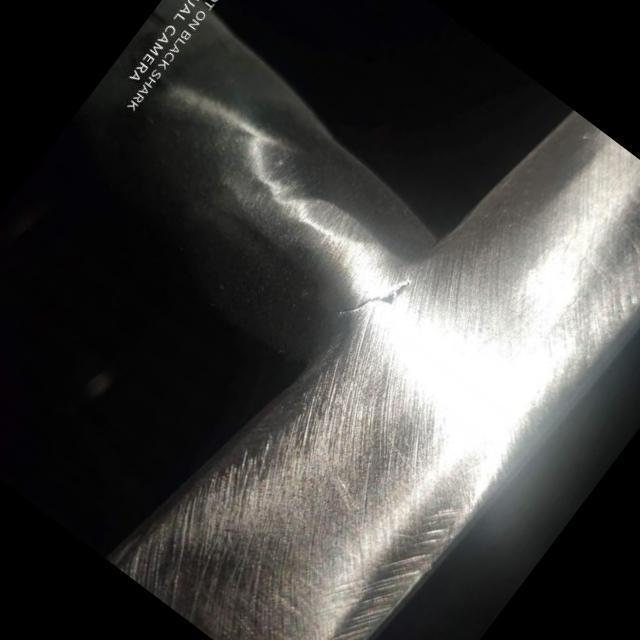defect: (334, 279, 411, 316)
